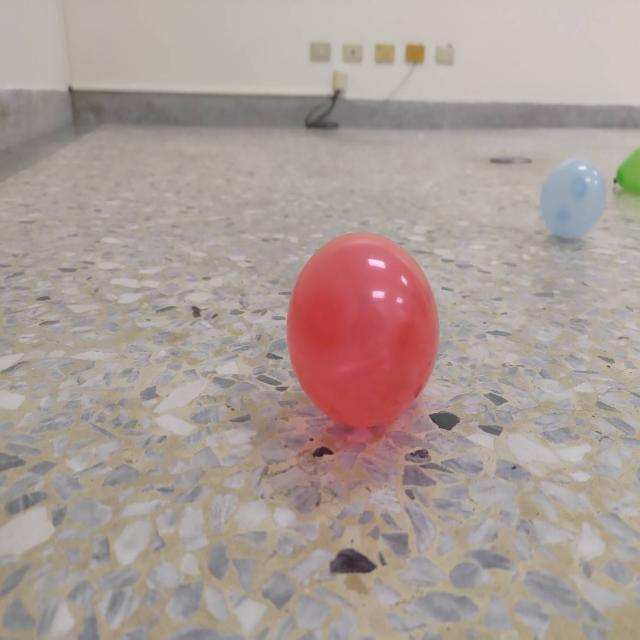other: (539, 160, 606, 242), (612, 140, 640, 194)
red: (285, 233, 439, 427)
